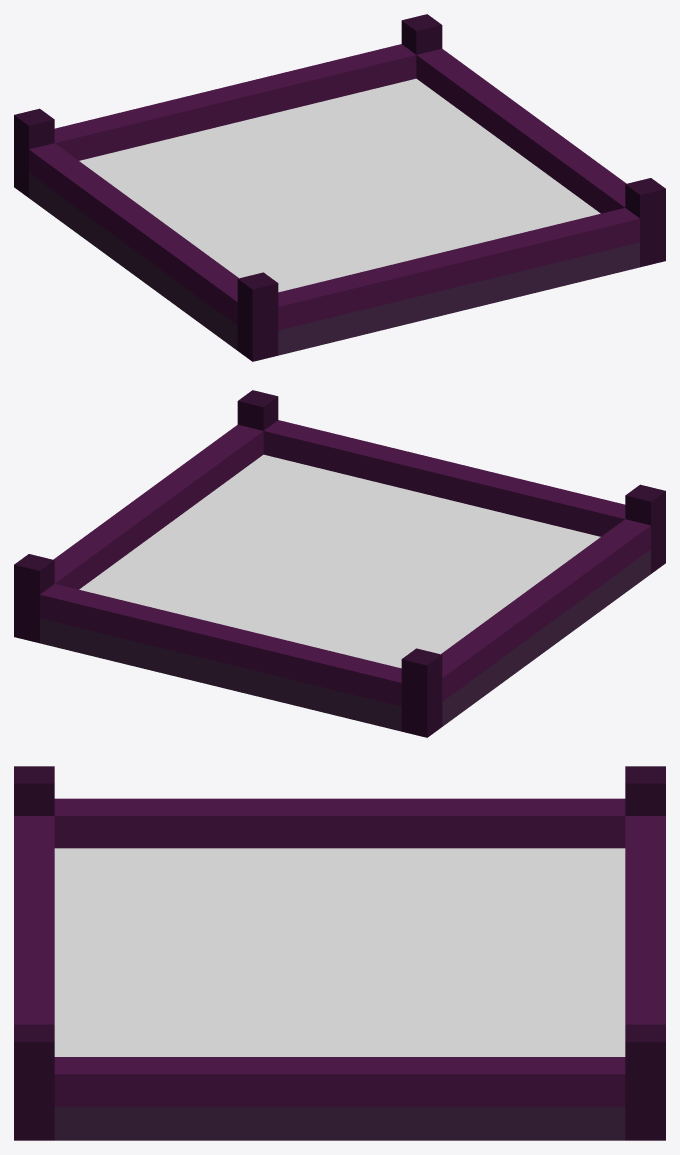
Rendered from mdl_petbed.glb.
3 renders of one model, top to bottom at view 1: azimuth 30°, elevation 25°; view 2: azimuth 150°, elevation 25°; view 3: azimuth 270°, elevation 25°, orthographic. The views are drawn at different scales.
Parts seen in each view (by area): view 1: Cube; view 2: Cube; view 3: Cube.
Boxes of the visible parts, left/top/right/bottom form: Cube: left=14, top=14, right=665, bottom=361; Cube: left=14, top=390, right=665, bottom=737; Cube: left=14, top=766, right=665, bottom=1140.
Bounding box in the file's own units: 2.29 × 0.3822 × 2.29.
